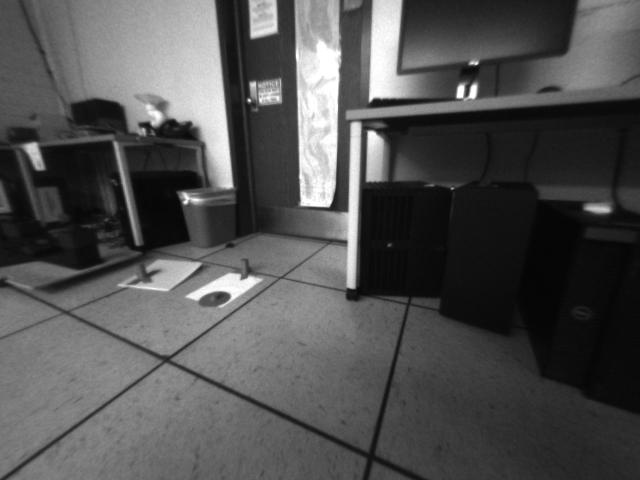X: (125, 260, 161, 285), (231, 257, 258, 278)
